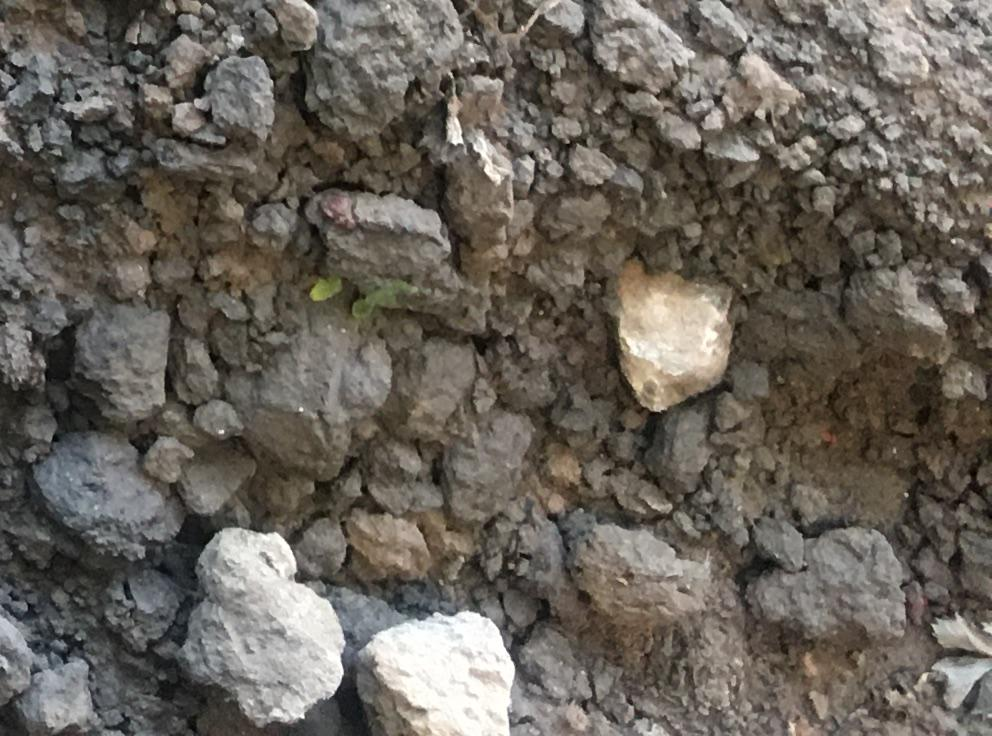block: (177, 522, 342, 726), (353, 607, 519, 736), (749, 525, 912, 650), (29, 432, 182, 565), (304, 192, 459, 314), (614, 253, 730, 412), (70, 295, 170, 424)
